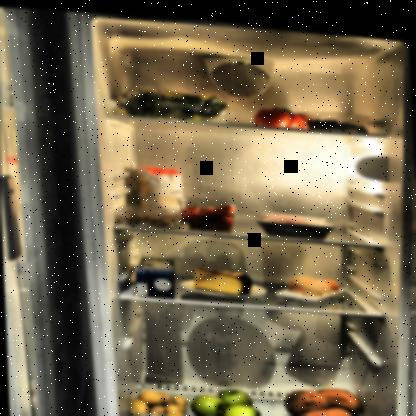apple: (186, 378, 264, 415)
blueberries: (300, 101, 372, 128)
cheese: (191, 259, 256, 292)
eggs: (283, 264, 341, 299)
ground_beef: (249, 201, 338, 237)
milk: (135, 250, 180, 297)
potato: (124, 381, 190, 415)
spinach: (123, 82, 231, 124)
strawberries: (181, 194, 239, 230)
sweet_potato: (280, 373, 366, 415)
tomato: (248, 94, 320, 129)
